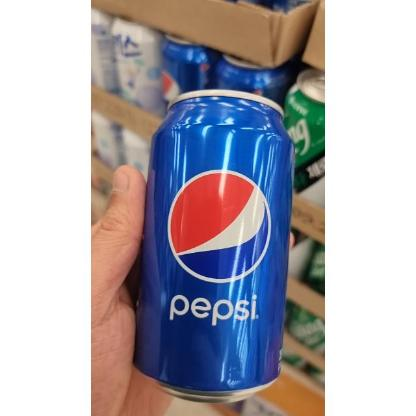Can: (131, 88, 292, 402)
